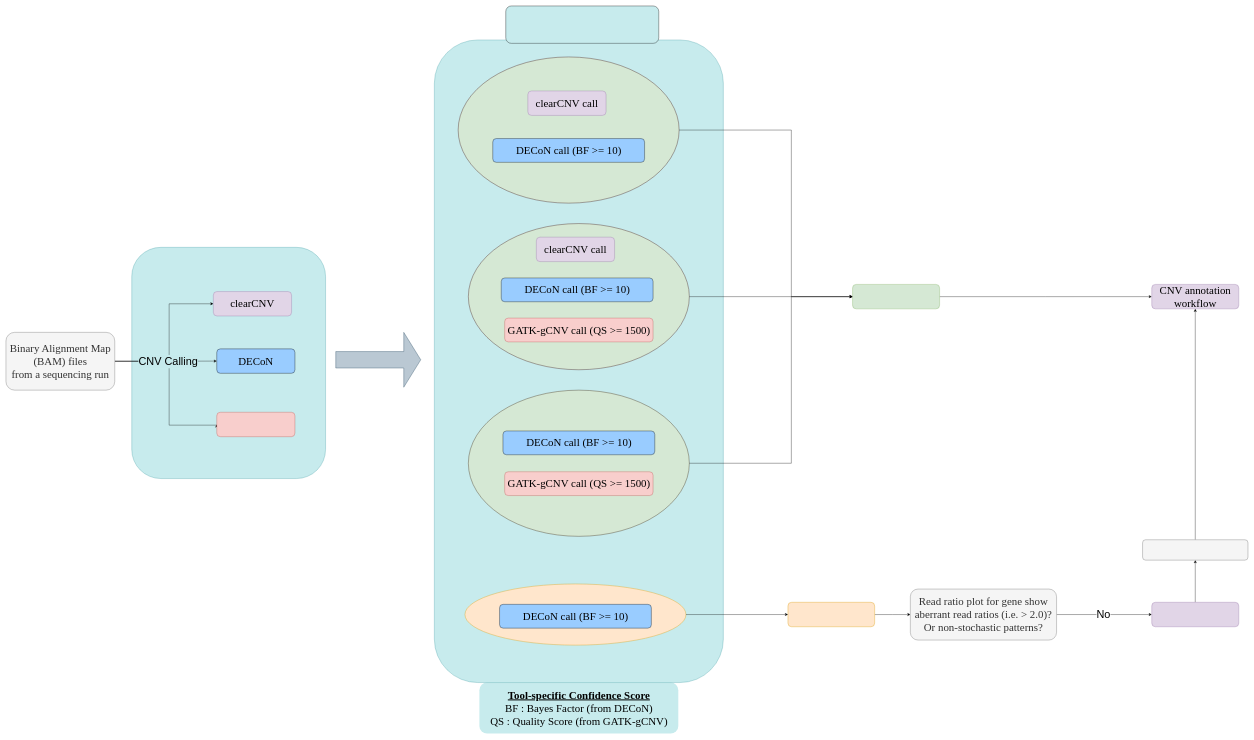
This 1254x740 diagram has some shape labels left out. Here are the shapes that lost their labels. From the top down, the box of each, then its label:
(505, 6, 659, 43): CNV Calls
(852, 284, 940, 309): High Confidence Call
(216, 412, 295, 437): GATK-gCNV
(1142, 539, 1248, 560): Positive on array
(788, 602, 875, 627): Medium Confidence Call
(1151, 602, 1239, 627): Run sample on aCGH array
